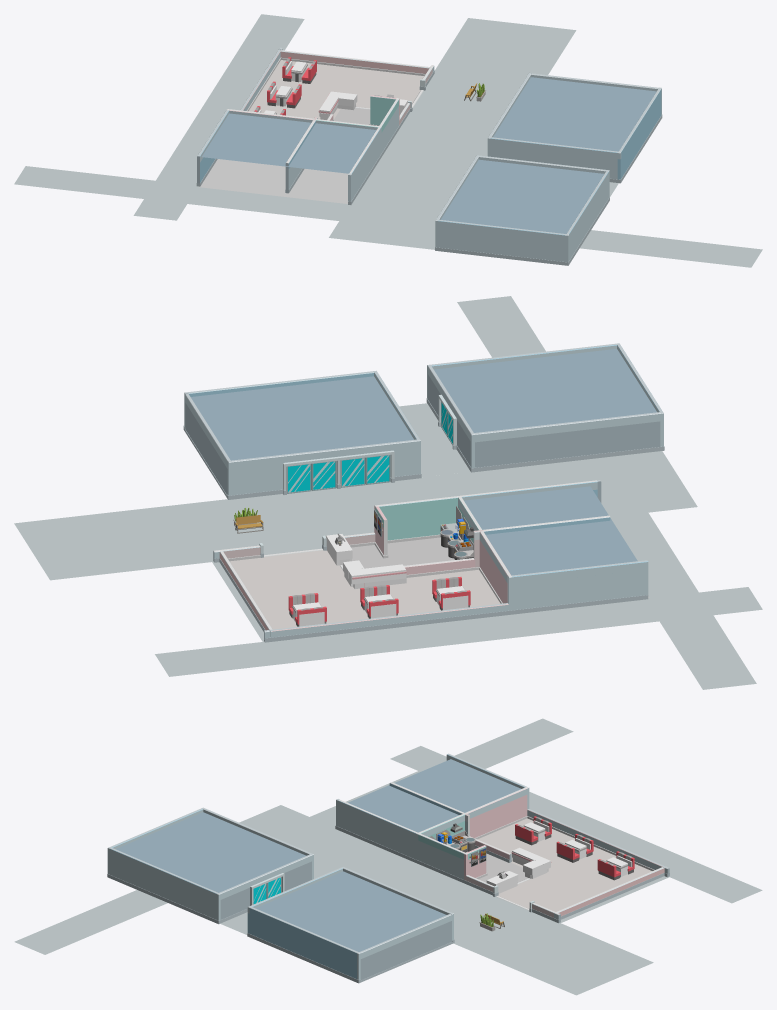
Rendered from Env.fbx.
3 views of the same model, one above another, from view 1: azimuth 30°, elevation 25°; view 2: azimuth 150°, elevation 25°; view 3: azimuth 270°, elevation 25° (orthographic). The views are drawn at different scales.
Parts seen in each view (by area): view 1: Ground_Inside, Ground_Inside__3_, Ground_Inside__2_, Roof_1, Ground_Inside__5_, Roof, Ground_Inside_2, Ground_Inside_4, Wall01_1_wall_bottom_10, Wall01_1_wall_bottom_2, Wall01_1_wall_top_17, Wall01_1_wall_top_10 (+14 smaller); view 2: Ground_Inside, Ground_Inside__5_, Ground_Inside__2_, Roof_1, Ground_Inside__3_, Roof, Ground_Inside_4, Wall01_1_wall_bottom_12, Wall01_1_wall_bottom_6, Ground_Inside__2__1, Ground_Inside__1_, Ground_Inside__1__2 (+19 smaller); view 3: Ground_Inside, Ground_Inside__2_, Roof_1, Ground_Inside__3_, Roof, Ground_Inside__5_, Ground_Inside_4, Wall01_1_wall_bottom_4, Wall01_1_wall_bottom_11, Wall01_1_wall_bottom_1, Ground_Inside__2__1, Wall01_1_wall_bottom_7 (+18 smaller).
Boxes of the visible parts, x1,y1,x2,y2 form: Ground_Inside: [329, 18, 576, 249]; Ground_Inside__3_: [14, 166, 762, 267]; Ground_Inside__2_: [493, 77, 656, 151]; Roof_1: [441, 159, 603, 233]; Ground_Inside__5_: [133, 14, 304, 220]; Roof: [202, 113, 376, 173]; Ground_Inside_2: [198, 159, 348, 203]; Ground_Inside_4: [258, 60, 424, 108]; Wall01_1_wall_bottom_10: [438, 227, 565, 261]; Wall01_1_wall_bottom_2: [490, 144, 617, 179]; Wall01_1_wall_top_17: [280, 50, 429, 73]; Wall01_1_wall_top_10: [438, 219, 565, 241]; Ground_Inside: [14, 451, 697, 580]; Ground_Inside__5_: [155, 587, 762, 676]; Ground_Inside__2_: [190, 376, 414, 460]; Roof_1: [434, 349, 656, 432]; Ground_Inside__3_: [457, 296, 756, 689]; Roof: [464, 486, 637, 575]; Ground_Inside_4: [229, 550, 368, 629]; Wall01_1_wall_bottom_12: [475, 421, 660, 467]; Wall01_1_wall_bottom_6: [512, 569, 648, 610]; Ground_Inside__2__1: [355, 569, 500, 615]; Ground_Inside__1_: [399, 403, 470, 476]; Ground_Inside__1__2: [340, 537, 454, 569]; Ground_Inside: [239, 805, 653, 995]; Ground_Inside__2_: [255, 871, 446, 951]; Roof_1: [116, 812, 306, 892]; Ground_Inside__3_: [14, 718, 573, 954]; Roof: [348, 759, 520, 832]; Ground_Inside__5_: [390, 746, 762, 903]; Ground_Inside_4: [498, 849, 651, 911]; Wall01_1_wall_bottom_4: [249, 914, 356, 978]; Wall01_1_wall_bottom_11: [110, 855, 216, 919]; Wall01_1_wall_bottom_1: [360, 921, 451, 979]; Ground_Inside__2__1: [477, 818, 600, 870]; Wall01_1_wall_bottom_7: [338, 807, 416, 859].
Size of the model in its own units: 8945 by 464 by 10218.
